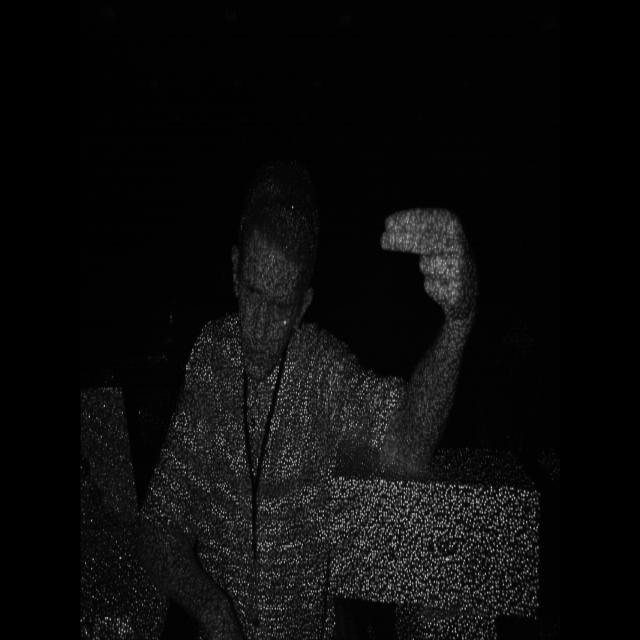H: (367, 193, 493, 356)
